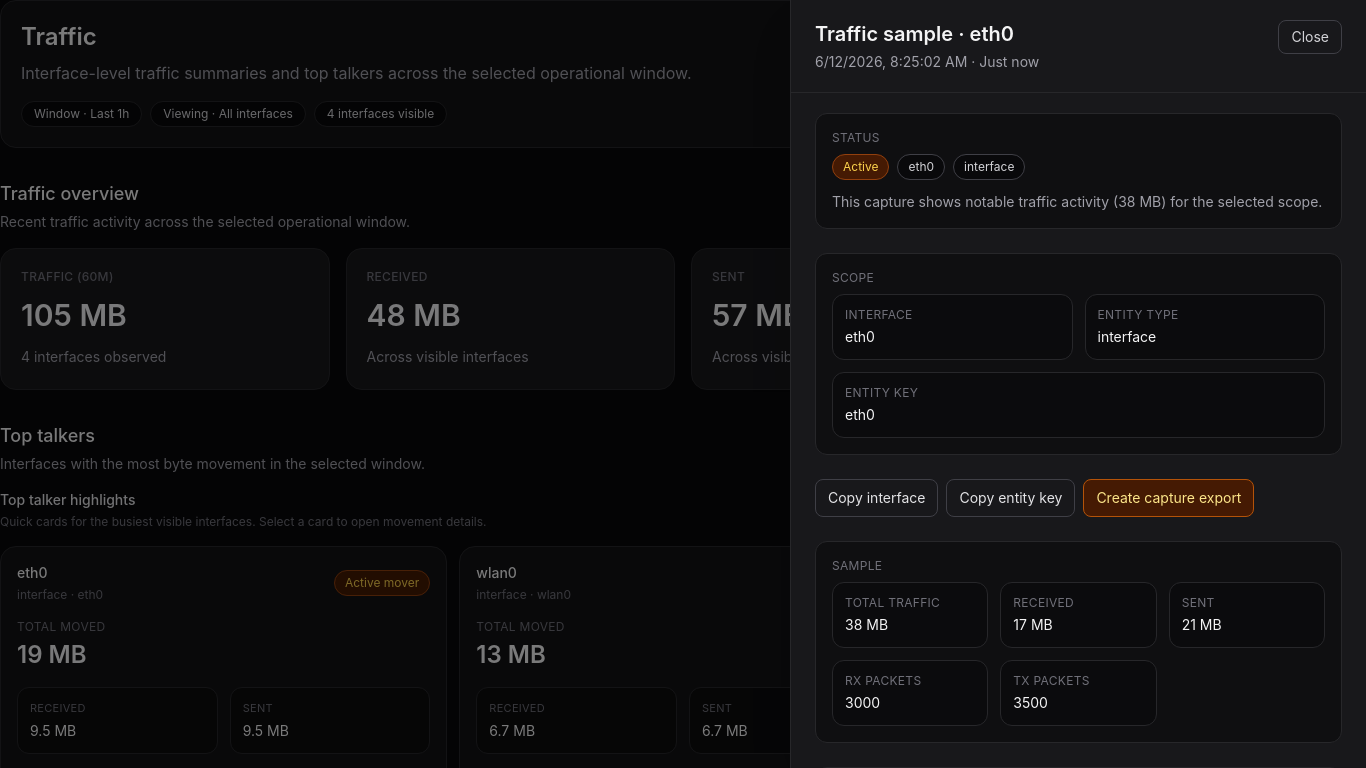
Test: TrafficPage › clears sample query params when the drawer closes
The image size is (1366, 768).
Expected: the heading "Traffic sample · eth0" is shown, [815,20,1039,48]
Click the button "Close": click(1310, 37) [1278,20,1342,54]
(page scrolled)
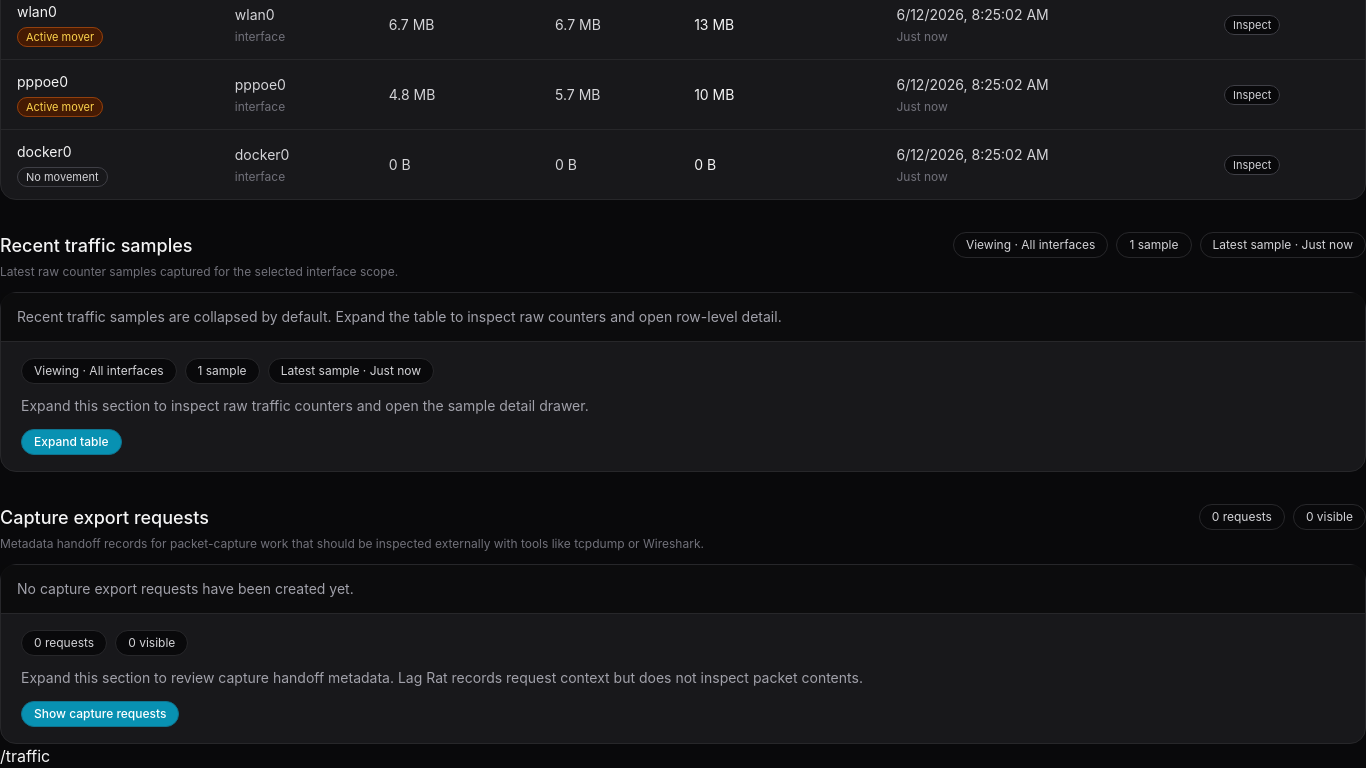
Expected: the text with test id "location-search" does not show "trafficSampleId", [0,746,50,766]
Result: the heading "Traffic sample · eth0" is gone
